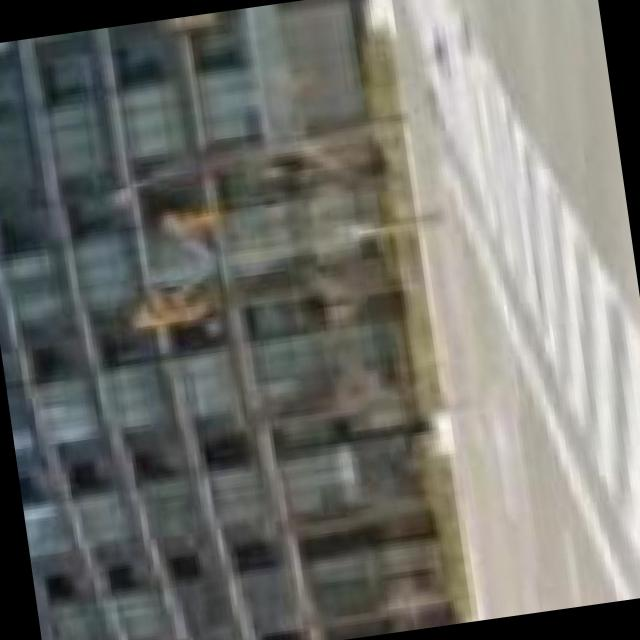zebra: (394, 0, 640, 603)
